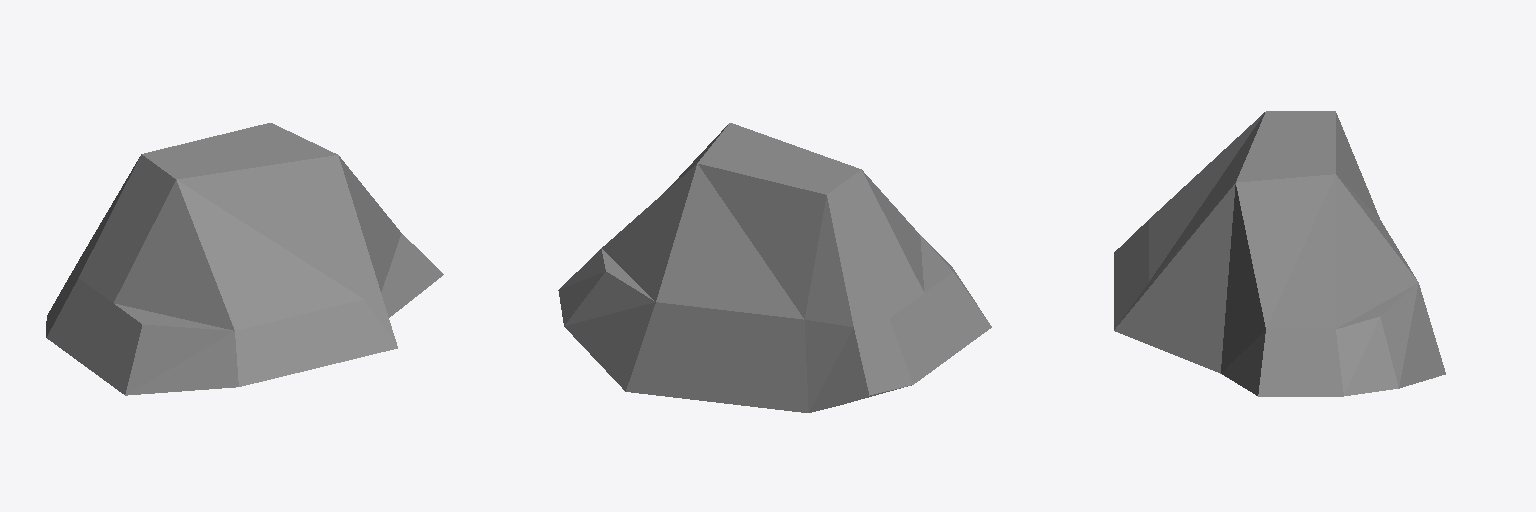
The model's file is stone_middle_03.obj.
The picture shows the model from 3 angles: view 1: azimuth 30°, elevation 25°; view 2: azimuth 150°, elevation 25°; view 3: azimuth 270°, elevation 25°; orthographic projection.
Bounding box in the file's own units: 1.61 × 0.8885 × 1.3.